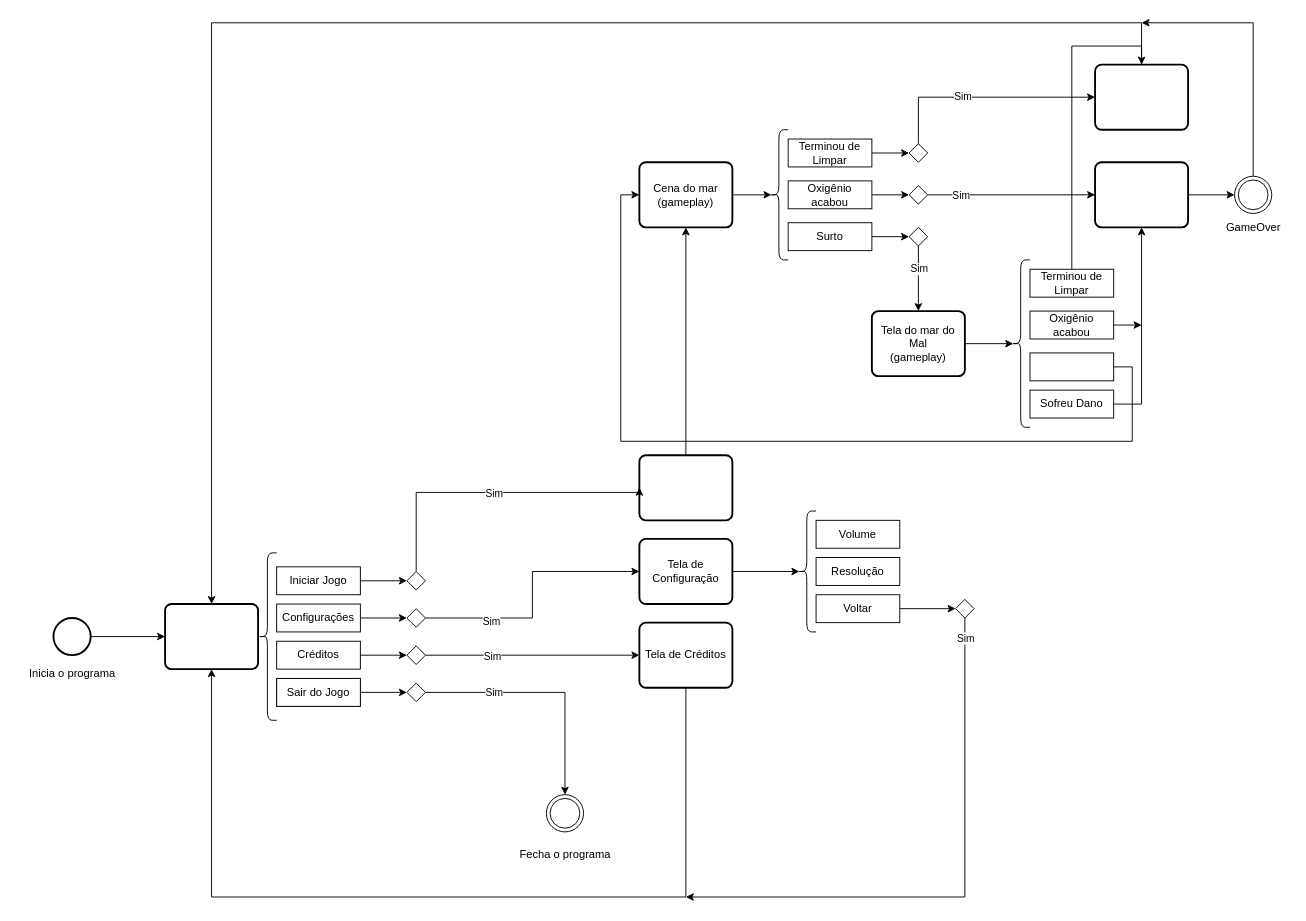
This 1306x921 diagram has some shape labels left out. Each missing label, with the centre of its shape:
"Cutscene" belongs at (x=685, y=487).
"Sobreviveu" belongs at (x=1071, y=366).
"Tela de Derrota" belongs at (x=1141, y=194).
"Tela de Menu" belongs at (x=211, y=636).
"Tela de vitória" belongs at (x=1141, y=96).
